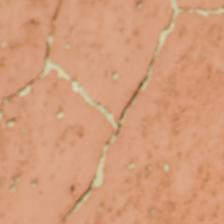Crack: (62, 11, 181, 221), (8, 3, 66, 99), (50, 57, 118, 131)
